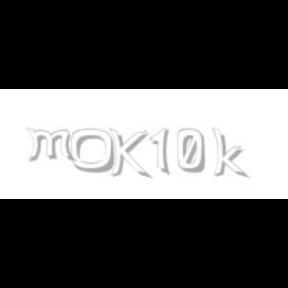0: (178, 128, 208, 174)
1: (149, 128, 171, 176)
K: (108, 128, 148, 180)
O: (70, 128, 116, 174)
k: (211, 128, 249, 180)
m: (25, 128, 77, 162)
